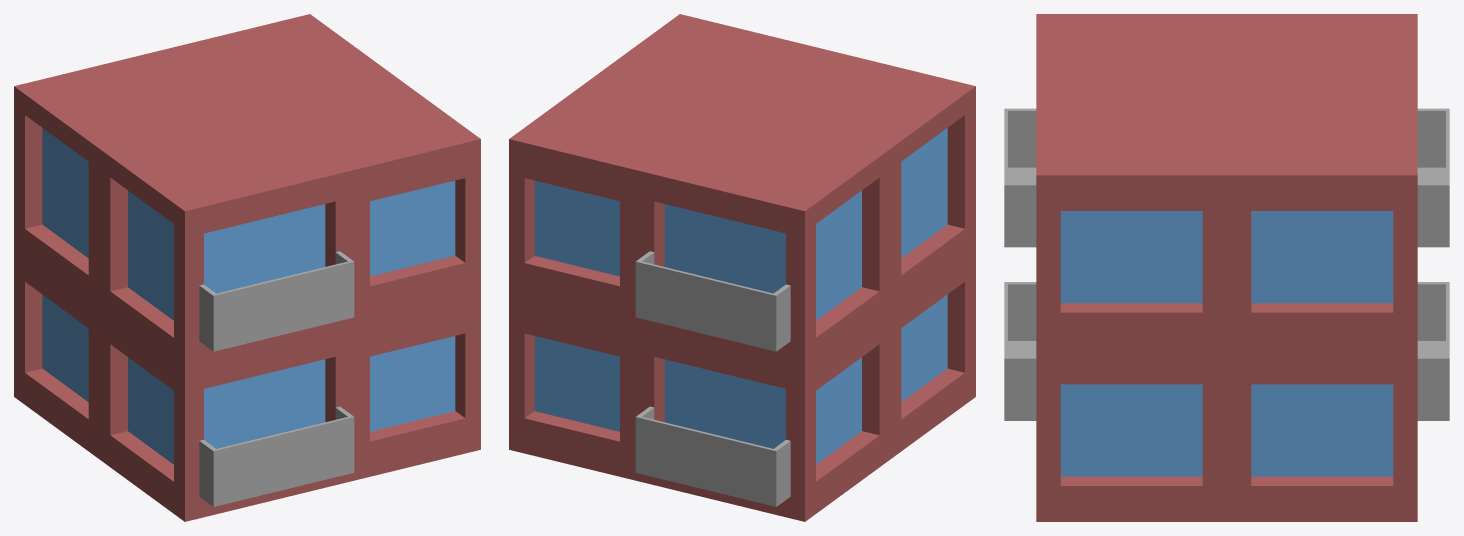
Rendered from building_1x1_3_f.glb.
3 renders of one model, left to right at view 1: azimuth 30°, elevation 25°; view 2: azimuth 150°, elevation 25°; view 3: azimuth 270°, elevation 25°, orthographic. The views are drawn at different scales.
Visible parts, largest first — view 1: Cube.001; view 2: Cube.001; view 3: Cube.001.
Part boxes in pixels (x1,y1,x2,y2): Cube.001: (14,14,480,521); Cube.001: (509,14,975,521); Cube.001: (1004,14,1449,521).
Bounding box in the file's own units: 1.59 × 1.6 × 1.86.
